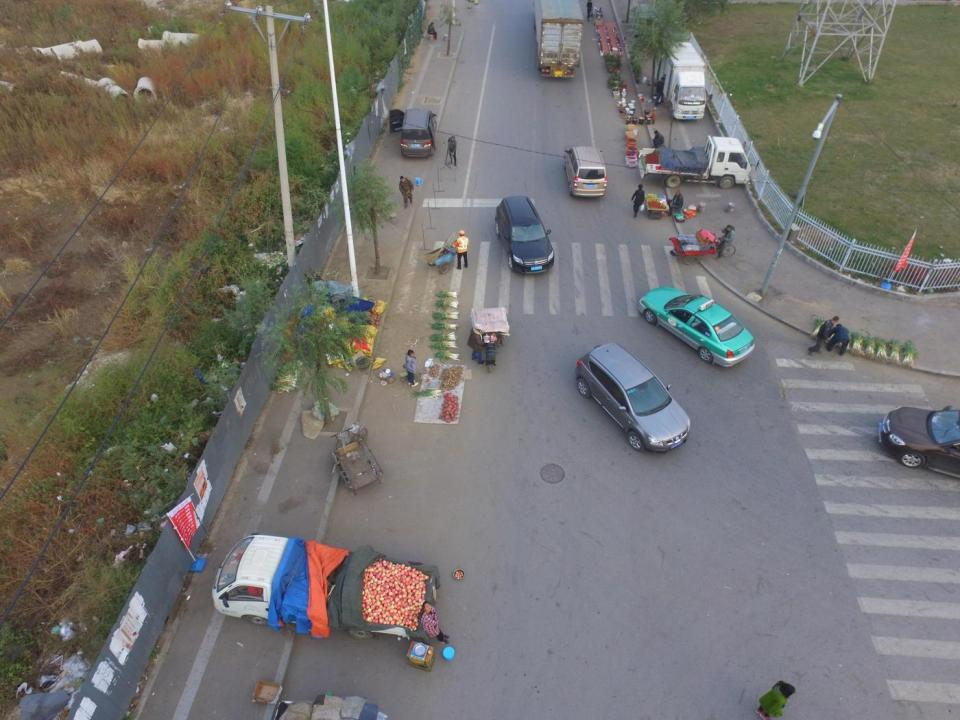car: (574, 341, 691, 454), (637, 285, 755, 368), (878, 405, 960, 486), (494, 194, 556, 275)
truck: (211, 532, 440, 641), (636, 135, 760, 190), (652, 41, 713, 121), (533, 0, 585, 78)
van: (389, 108, 437, 158), (563, 146, 607, 198)
